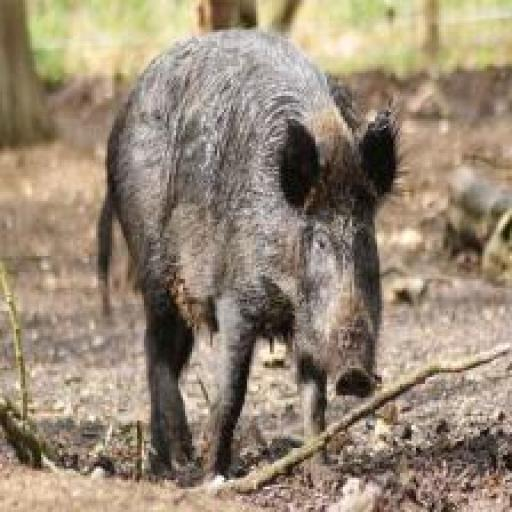Pig: (87, 18, 404, 498)
